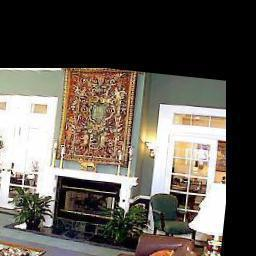Matera: (12, 190, 53, 229), (107, 202, 142, 244)
